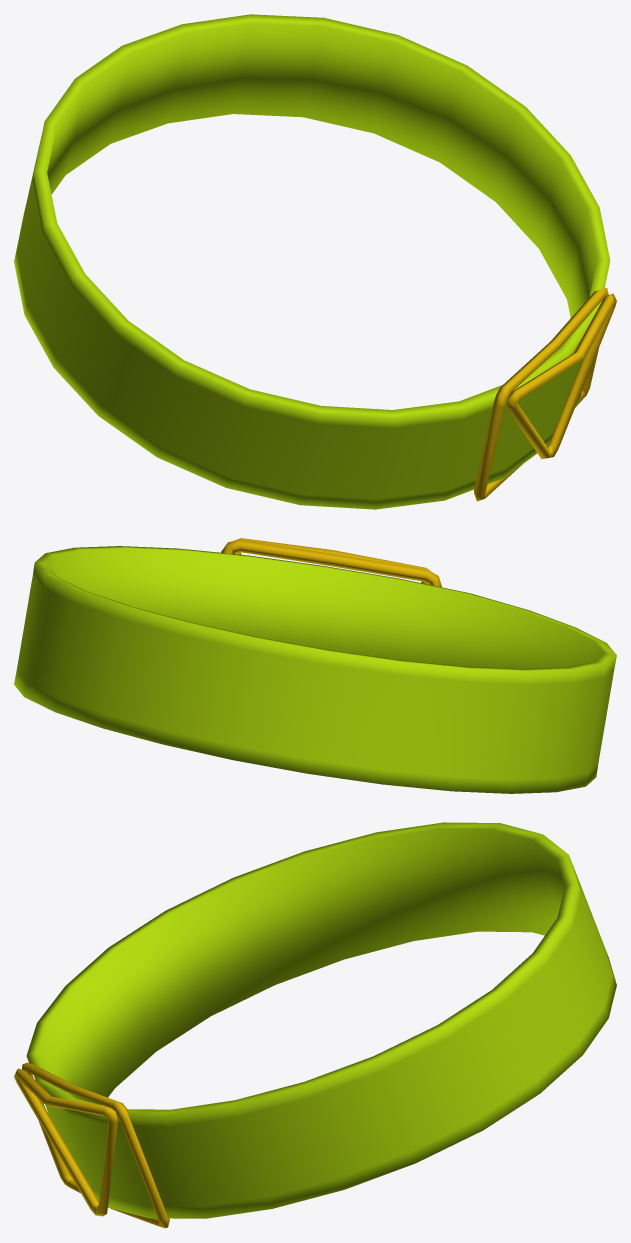
Rendered from Minase_choker.fbx.
3 renders of one model, top to bottom at view 1: azimuth 30°, elevation 25°; view 2: azimuth 150°, elevation 25°; view 3: azimuth 270°, elevation 25°, orthographic. The views are drawn at different scales.
Parts seen in each view (by area): view 1: Choker; view 2: Choker; view 3: Choker.
Boxes of the visible parts, x1=… form: Choker: x1=14, y1=14, x2=616, y2=509; Choker: x1=14, y1=538, x2=616, y2=793; Choker: x1=14, y1=822, x2=616, y2=1228.
Size of the model in its own units: 0.1038 by 0.0591 by 0.1121.
